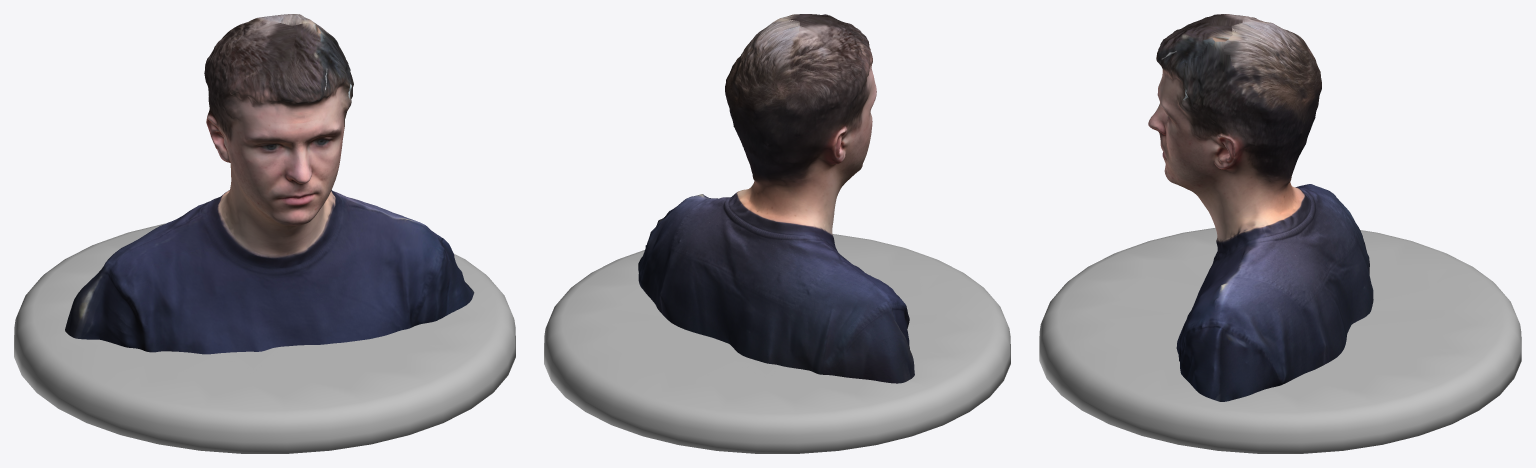
Rendered from man_3.glb.
3 renders of one model, left to right at view 1: azimuth 30°, elevation 25°; view 2: azimuth 150°, elevation 25°; view 3: azimuth 270°, elevation 25°, orthographic. The views are drawn at different scales.
Parts seen in each view (by area): view 1: Object_5, Object_2, Object_4, Object_3; view 2: Object_5, Object_2, Object_4, Object_3; view 3: Object_5, Object_2, Object_3, Object_4.
Part boxes in pixels (x1,y1,x2,y2): Object_5: (14,223,515,453); Object_2: (65,14,471,354); Object_4: (65,18,450,331); Object_3: (263,24,474,300); Object_5: (544,234,1010,453); Object_2: (643,18,914,381); Object_4: (753,14,905,383); Object_3: (638,15,862,303); Object_5: (1039,227,1521,453); Object_2: (1176,21,1371,396); Object_3: (1148,36,1306,401); Object_4: (1156,14,1373,342).
Size of the model in its own units: 28.03 by 21.8 by 28.03.
4 materials, 3 textured.
